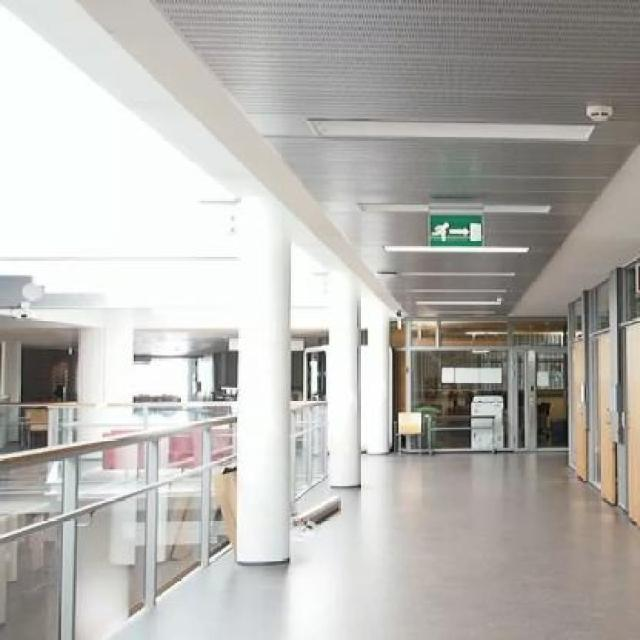emergency_exit: (427, 212, 484, 247)
